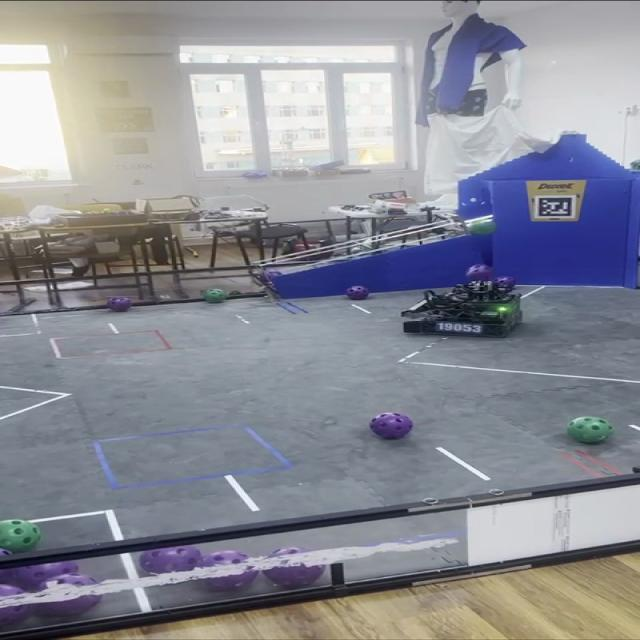artifact_green: (0, 520, 41, 553), (568, 417, 613, 443), (468, 219, 495, 235), (203, 289, 227, 303), (630, 160, 639, 170), (230, 291, 242, 296), (102, 208, 113, 213)
artifact_purple: (263, 558, 325, 588), (12, 562, 78, 589), (139, 546, 201, 574), (203, 566, 258, 591), (39, 595, 101, 616), (0, 584, 31, 625), (370, 413, 413, 439), (107, 297, 133, 312), (467, 265, 491, 281), (346, 286, 369, 300), (494, 276, 515, 291), (264, 270, 283, 281), (0, 569, 14, 583)
